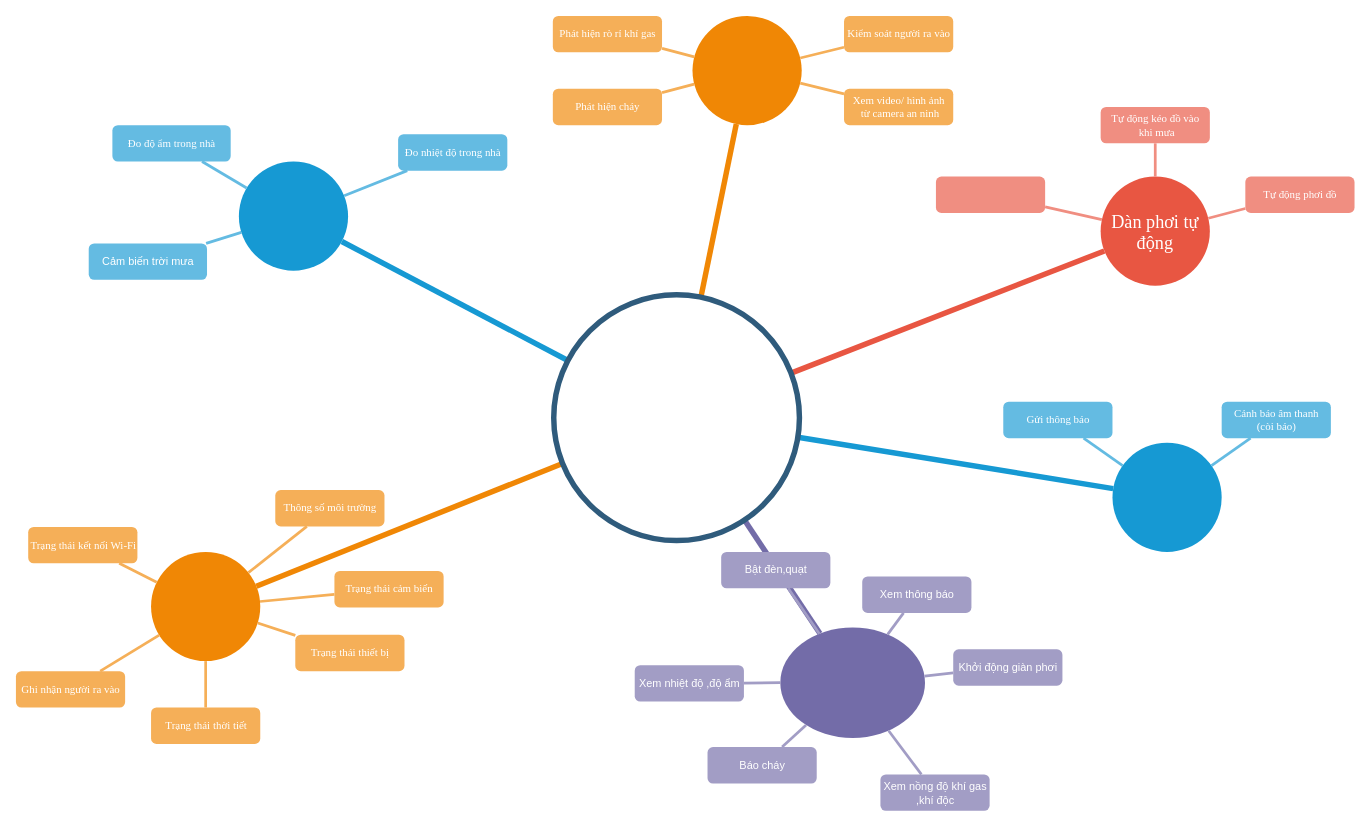
Image size: 1370x826. Some labels were removed from this diagram. The centre of each missing label's shape, as x and y in pixels:
"Cảnh báo sự cố" belongs at point (1166, 496).
"Giám sát an ninh và an toàn" belongs at point (746, 70).
"Giám sát môi trường" belongs at point (293, 215).
"Hiển thị trạng thái hệ thống" belongs at point (205, 606).
"Nhà thông minh" belongs at point (676, 417).
"Tiếp tục phơi đồ sau mưa" belongs at point (990, 194).
"Điều khiển từ xa = ứng dụng/website" belongs at point (852, 682).
